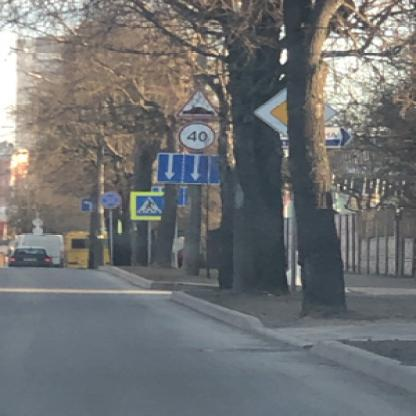crosswalk: (133, 194, 164, 216)
speedlimit: (176, 121, 214, 150)
